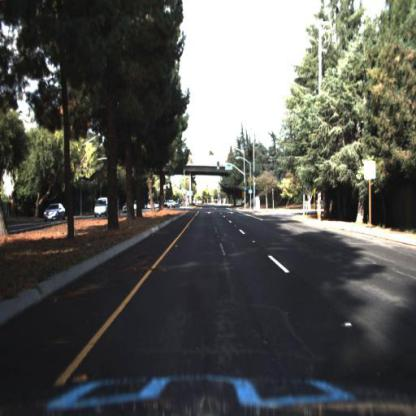car: (42, 199, 66, 225), (95, 198, 111, 219)
trafficLight-Green: (217, 154, 222, 175)
